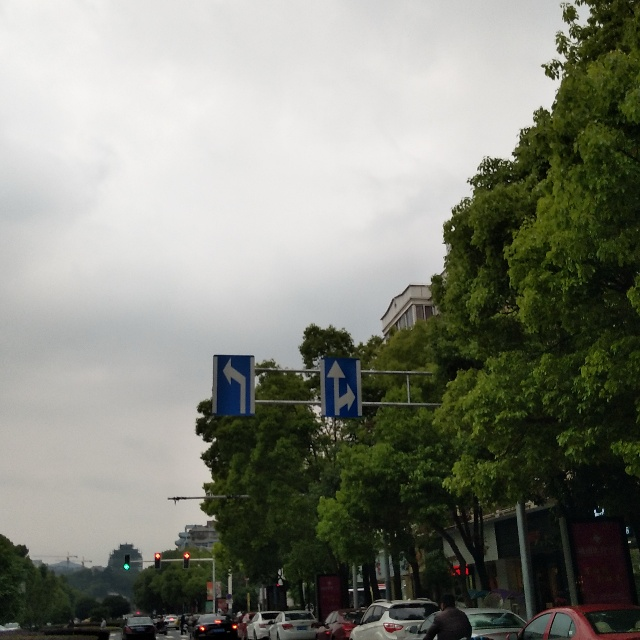left: (215, 353, 252, 416)
